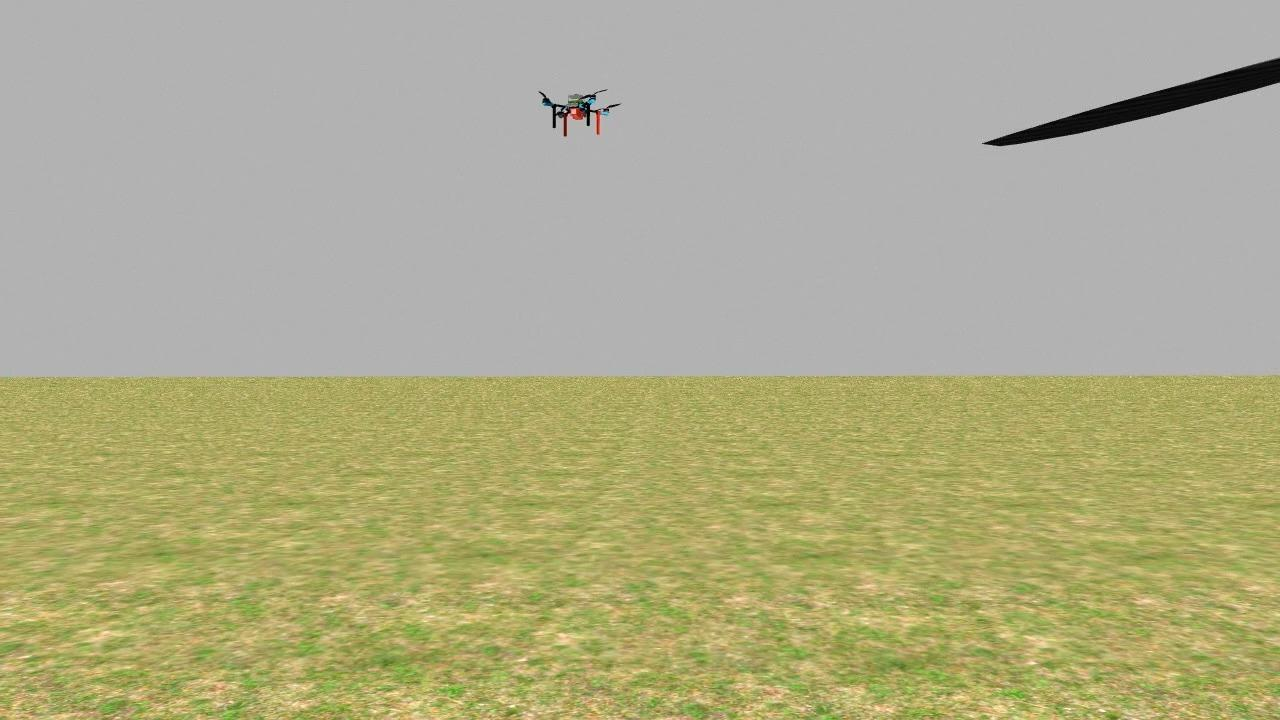UAV: (534, 81, 620, 150)
